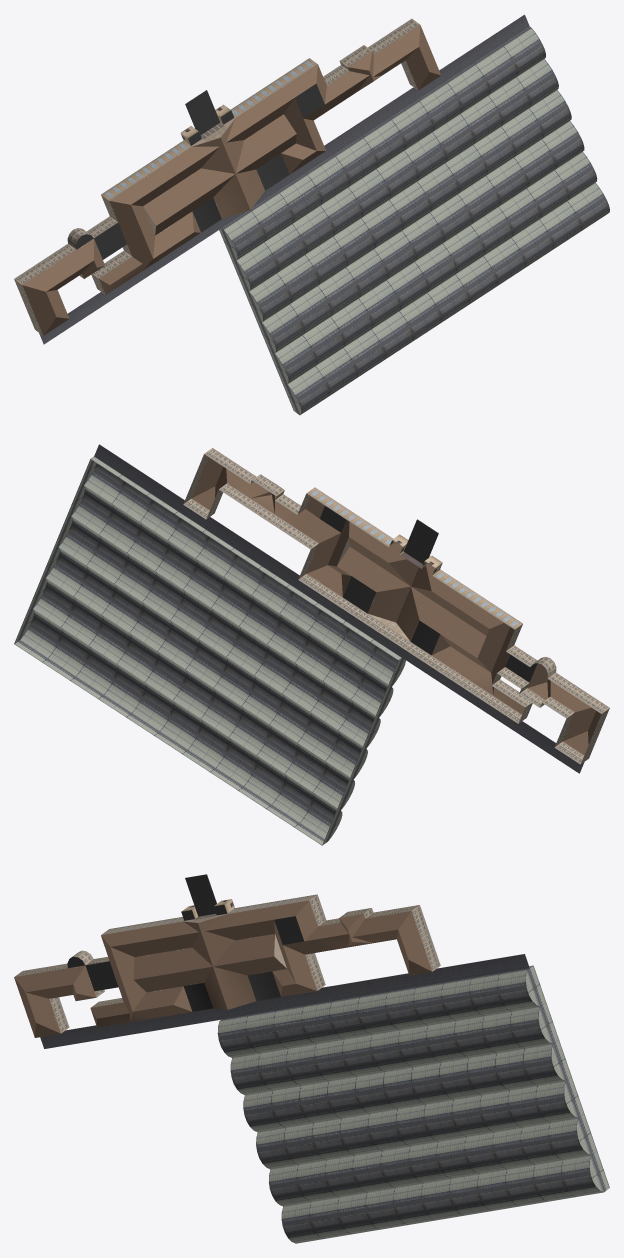
File: DEU_600_KARLSRUHE_HAUPTBA_S.OBJ
The picture shows the model from 3 angles, top to bottom: view 1: azimuth 30°, elevation 25°; view 2: azimuth 150°, elevation 25°; view 3: azimuth 330°, elevation 25°; orthographic projection.
Visible parts, largest first — view 1: DEU_600_KARLSRUHE_HAUPTBA_S; view 2: DEU_600_KARLSRUHE_HAUPTBA_S; view 3: DEU_600_KARLSRUHE_HAUPTBA_S.
Part boxes in pixels (bbox=[...]): DEU_600_KARLSRUHE_HAUPTBA_S: bbox=[14, 14, 609, 415]; DEU_600_KARLSRUHE_HAUPTBA_S: bbox=[14, 444, 609, 845]; DEU_600_KARLSRUHE_HAUPTBA_S: bbox=[14, 874, 609, 1243].
Size of the model in its own units: 317 by 187 by 14.47.
1 material, 1 textured.
